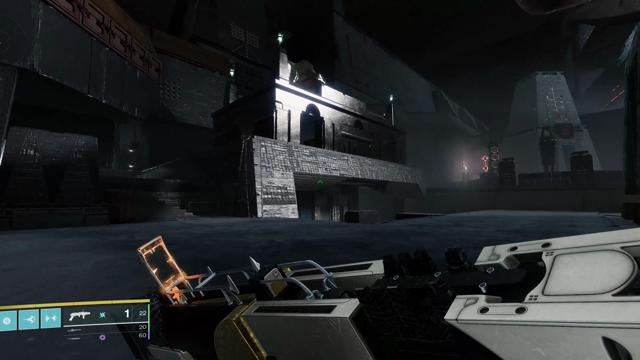stop: (561, 126, 572, 136)
